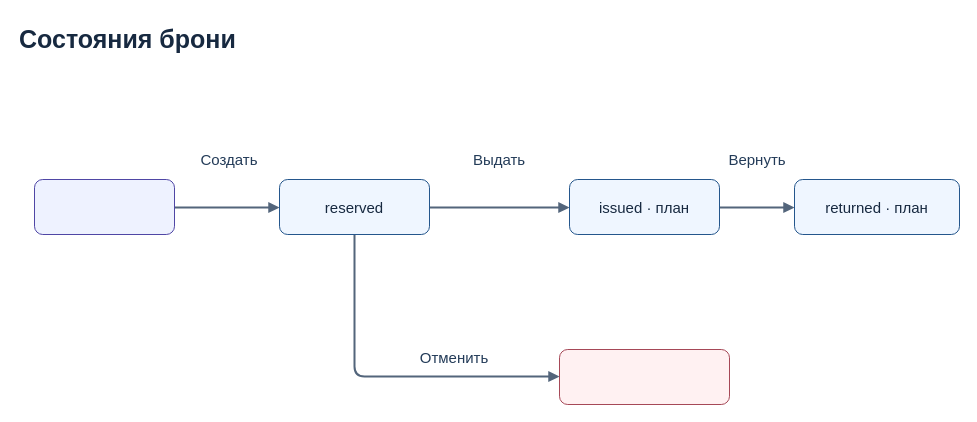
Some shapes in this 977 by 422 pixel diagram are drawn without their labels. Here are the shapes that lost their labels. From the top down, the centre of each, then its label:
At point (104, 206): "Начало".
At point (644, 376): "cancelled · план".
